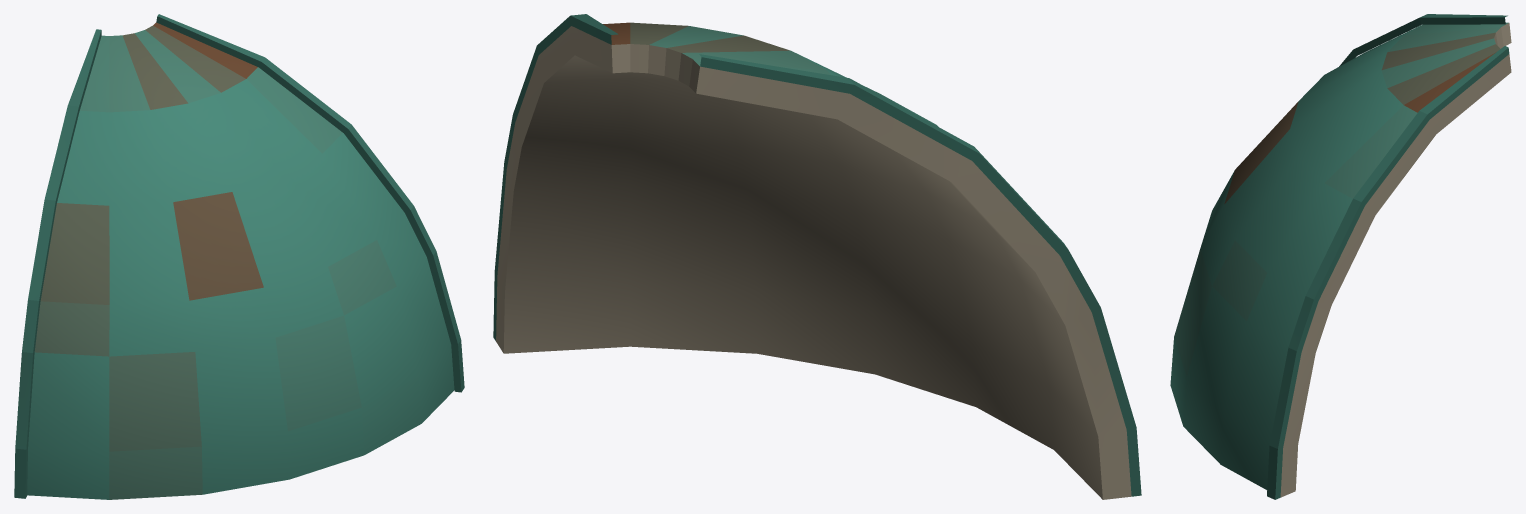
File: dome.panel_4.copper.glb
The picture shows the model from 3 angles, left to right: view 1: azimuth 30°, elevation 25°; view 2: azimuth 150°, elevation 25°; view 3: azimuth 270°, elevation 25°; orthographic projection. The views are drawn at different scales.
Visible parts, largest first — view 1: dome_panel_4_copper; view 2: dome_panel_4_copper; view 3: dome_panel_4_copper.
Part boxes in pixels (bbox=[...]): dome_panel_4_copper: bbox=[14, 14, 464, 499]; dome_panel_4_copper: bbox=[493, 14, 1141, 499]; dome_panel_4_copper: bbox=[1170, 14, 1511, 499].
Size of what is drawn, in the model's own units: 5.05 by 3.63 by 3.18.
